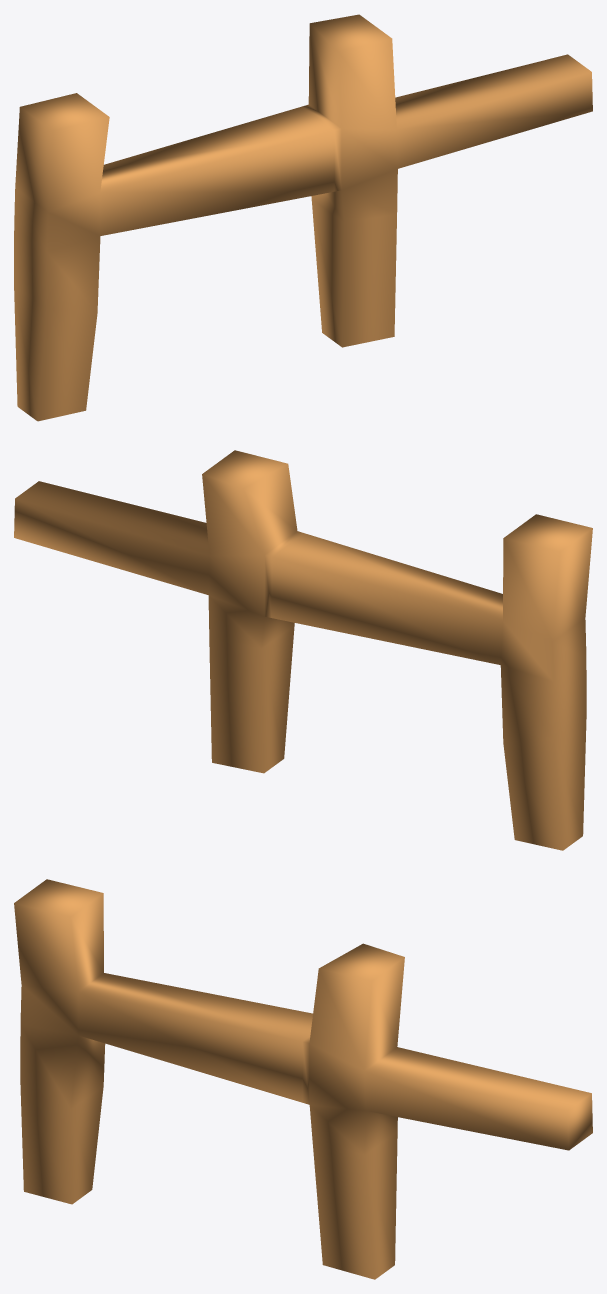
File: single fence.fbx
The picture shows the model from 3 angles, top to bottom: view 1: azimuth 30°, elevation 25°; view 2: azimuth 150°, elevation 25°; view 3: azimuth 330°, elevation 25°; orthographic projection.
Parts seen in each view (by area): view 1: Cube.026; view 2: Cube.026; view 3: Cube.026.
Boxes of the visible parts, x1,y1,x2,y2 form: Cube.026: (14,14,592,421); Cube.026: (14,450,592,850); Cube.026: (14,879,592,1279).
Bounding box in the file's own units: 351 × 182 × 51.34.
